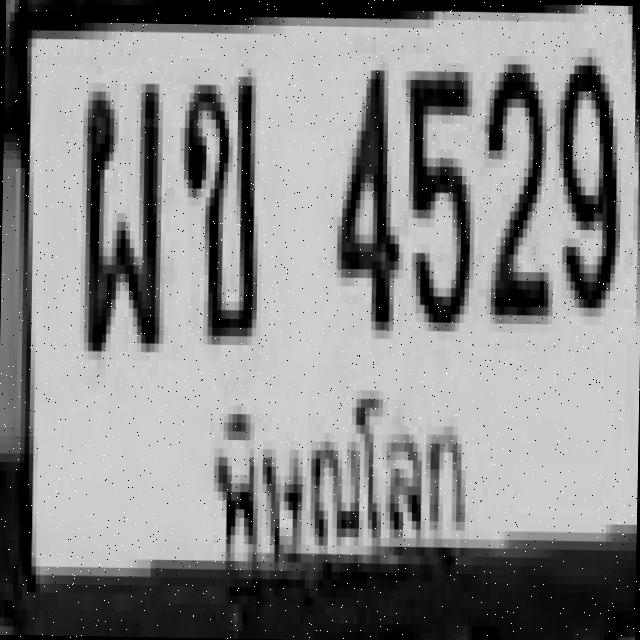11KhorKhai: (169, 52, 270, 352)
2: (473, 38, 558, 358)
37PhorPhueng: (62, 62, 175, 368)
4: (322, 41, 411, 356)
5: (396, 41, 484, 363)
9: (550, 37, 627, 335)
Phitsanulok: (197, 381, 492, 587)
